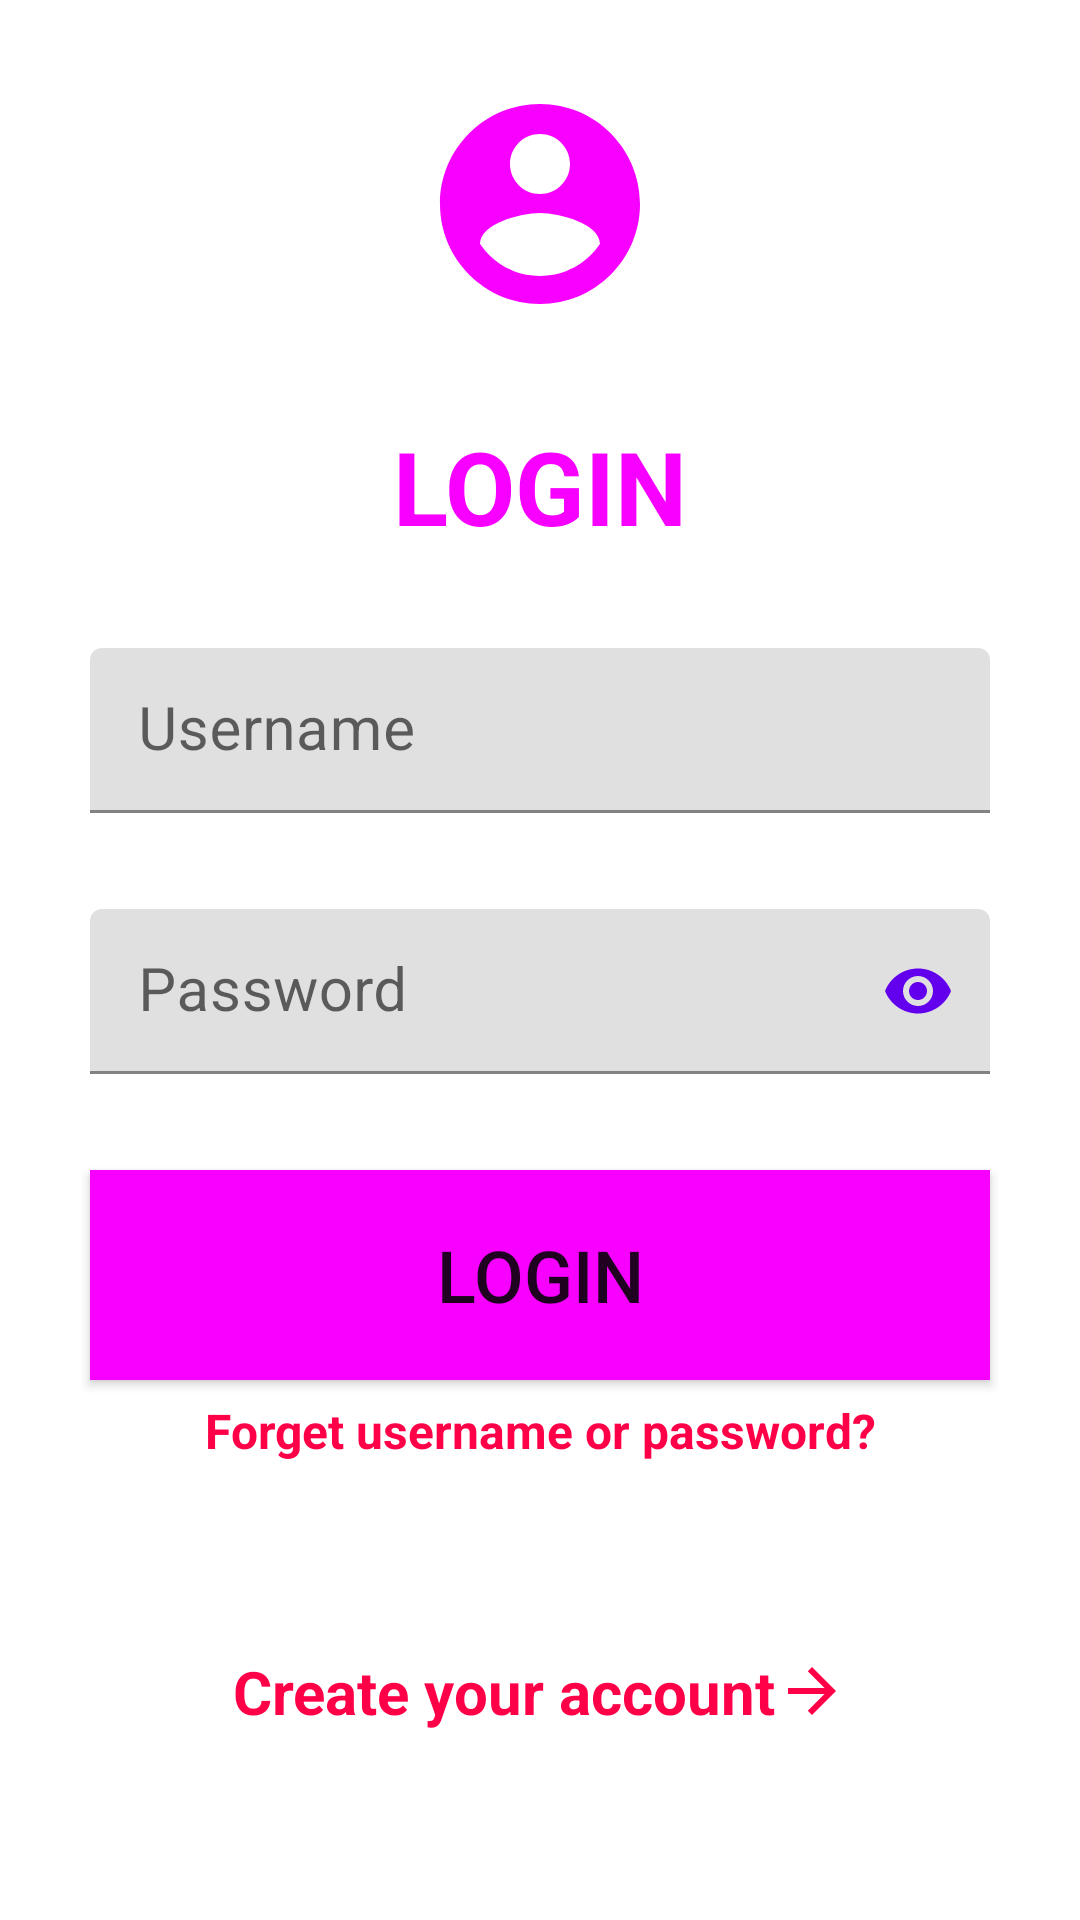

Where to tap for icons on this 1080px x 1920px app screen, as (x,y):
account circle: (539,204)
